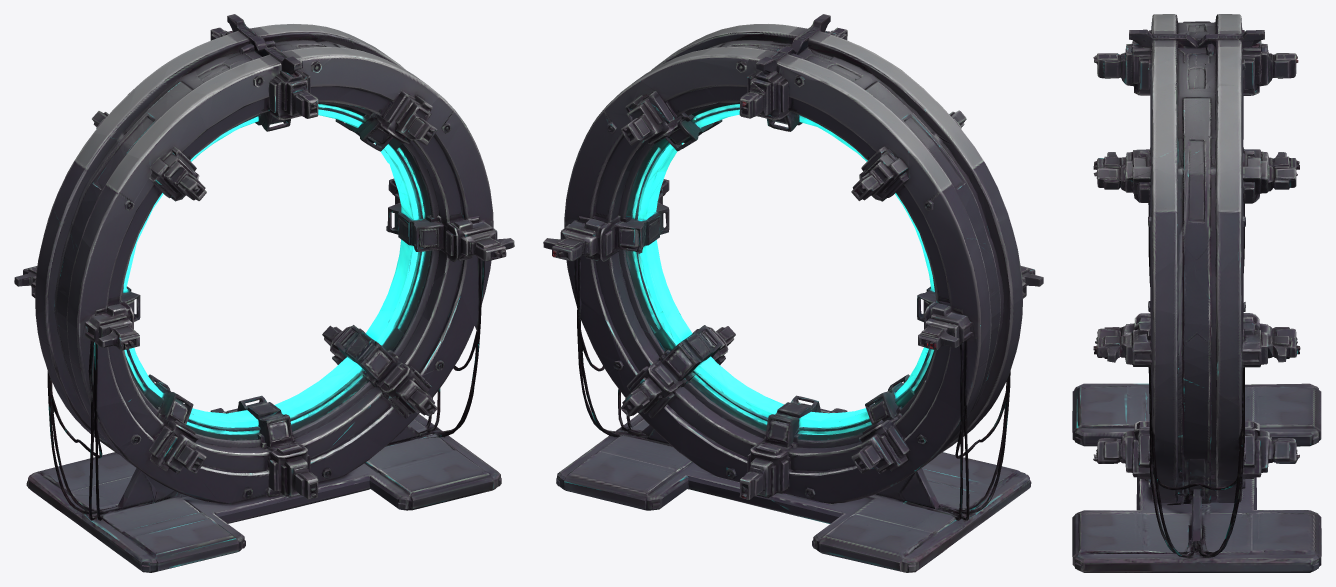
The model's file is transit-hyperloop-gate-mesh.glb.
3 renders of one model, left to right at view 1: azimuth 30°, elevation 25°; view 2: azimuth 150°, elevation 25°; view 3: azimuth 270°, elevation 25°, orthographic.
Visible parts, largest first — view 1: Mesh_0; view 2: Mesh_0; view 3: Mesh_0.
Boxes of the visible parts, x1,y1,x2,y2 form: Mesh_0: (14, 14, 514, 572); Mesh_0: (543, 14, 1043, 572); Mesh_0: (1072, 14, 1321, 572).
Bounding box in the file's own units: 1.85 × 1.9 × 0.9449.
1 material, 1 textured.
